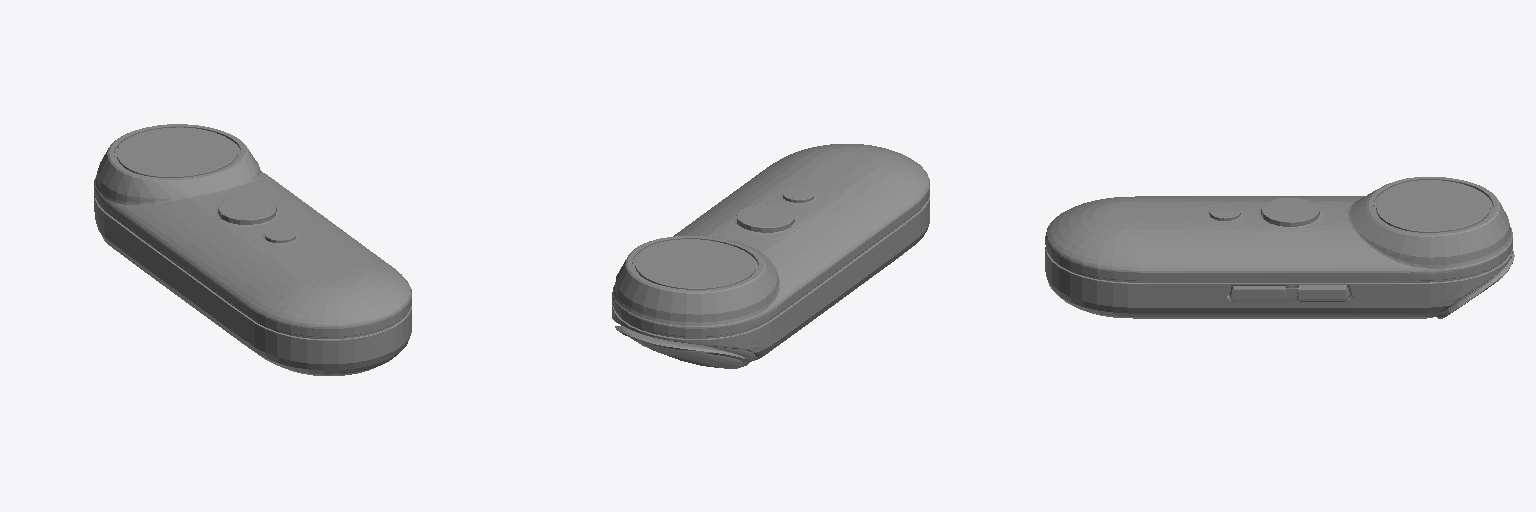
File: vr_controller_focus.OBJ
3 renders of one model, left to right at view 1: azimuth 30°, elevation 25°; view 2: azimuth 150°, elevation 25°; view 3: azimuth 270°, elevation 25°, orthographic.
Visible parts, largest first — view 1: vr_controller_focus; view 2: vr_controller_focus; view 3: vr_controller_focus.
Part boxes in pixels (x1,y1,x2,y2): vr_controller_focus: (94, 124, 411, 375); vr_controller_focus: (612, 144, 929, 368); vr_controller_focus: (1045, 177, 1514, 318).
Size of the model in its own units: 0.0679 by 0.0409 by 0.1785.